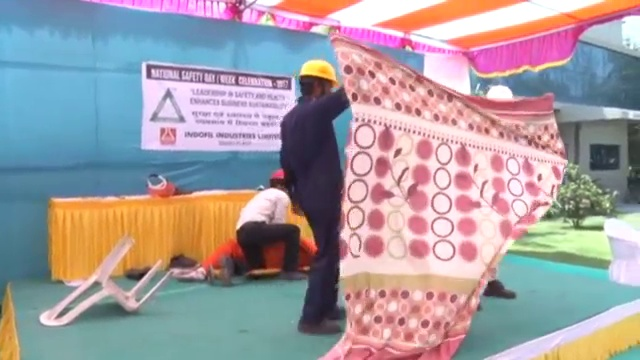helmet: (300, 58, 340, 87)
helmet_on: (299, 57, 341, 101)
person: (279, 56, 356, 338), (226, 169, 304, 283)
